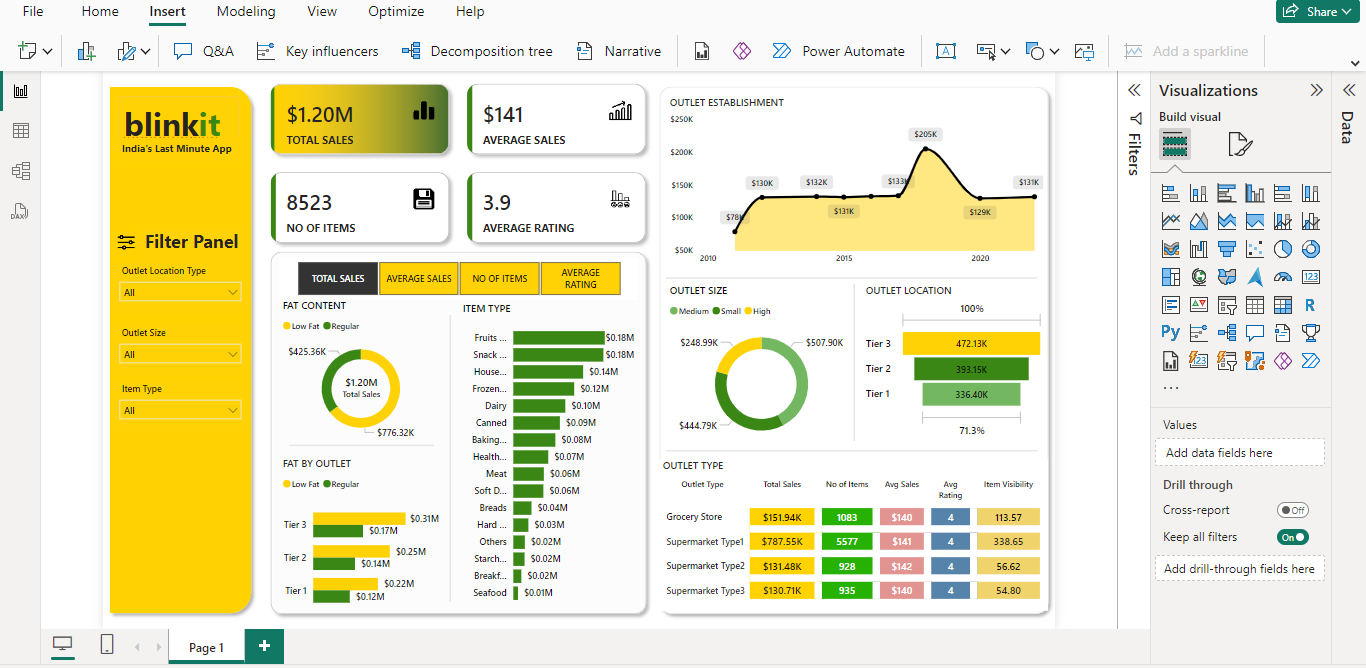

Layout of this report page (visuals, bound fields, positions):
{"tool":"powerbi","page":{"name":"Page 1","canvas":[1280,750],"ordinal":0},"visuals":[{"type":"shape","box":[6.7,11.8,201.6,725.7],"z":0},{"type":"textbox","box":[20.2,23.5,174.7,84],"z":1000},{"type":"textbox","box":[20.2,90.7,174.7,33.6],"z":2000},{"type":"cardVisual","fields":{"Data":["BlinkIT Grocery Data.TOTAL SALES","BlinkIT Grocery Data.AVERAGE SALES","BlinkIT Grocery Data.NO OF ITEMS","BlinkIT Grocery Data.AVERAGE RATING"]},"box":[208.2,0,538.9,249.5],"z":3000},{"type":"shape","box":[217,233.3,522.6,504.9],"z":4000},{"type":"donutChart","title":"FAT CONTENT","fields":{"Y":["BlinkIT Grocery Data.TOTAL SALES"],"Category":["BlinkIT Grocery Data.Item Fat Content"]},"box":[236.2,307.1,220,196.4],"z":5000},{"type":"slicer","fields":{"Values":["Metrics.Metrics"]},"box":[236.2,249.5,482.8,57.6],"z":6000},{"type":"cardVisual","fields":{"Data":["BlinkIT Grocery Data.TOTAL SALES"]},"box":[295.9,374.4,103.2,99.1],"z":7000},{"type":"clusteredBarChart","title":"FAT BY OUTLET","fields":{"Y":["BlinkIT Grocery Data.TOTAL SALES"],"Category":["BlinkIT Grocery Data.Outlet Location Type"],"Series":["BlinkIT Grocery Data.Item Fat Content"]},"box":[236.2,518.2,220,220],"z":8000},{"type":"shape","box":[249.5,497.5,194.9,11.8],"z":9000},{"type":"shape","box":[456.2,327.8,22.1,385.3],"z":10000},{"type":"barChart","title":"ITEM TYPE","fields":{"Y":["BlinkIT Grocery Data.TOTAL SALES"],"Category":["BlinkIT Grocery Data.Item Type"]},"box":[478.3,310,240.6,414.9],"z":11000},{"type":"shape","box":[739.7,11.8,540.4,726.4],"z":12000},{"type":"lineChart","title":"OUTLET ESTABLISHMENT","fields":{"Y":["BlinkIT Grocery Data.TOTAL SALES"],"Category":["BlinkIT Grocery Data.Outlet Establishment Year"]},"box":[757.4,34,512.3,236.2],"z":13000},{"type":"shape","box":[757.4,270.2,499,16.2],"z":14000},{"type":"donutChart","title":"OUTLET SIZE","fields":{"Y":["BlinkIT Grocery Data.TOTAL SALES"],"Category":["BlinkIT Grocery Data.Outlet Size"]},"box":[757.4,286.4,256.9,224.4],"z":15000},{"type":"shape","box":[998,286.4,22.1,211.1],"z":16000},{"type":"funnel","title":"OUTLET LOCATION","fields":{"Y":["Sum(BlinkIT Grocery Data.Sales)"],"Category":["BlinkIT Grocery Data.Outlet Location Type"]},"box":[1020.2,286.4,249.5,211.1],"z":17000},{"type":"shape","box":[757.4,500.5,499,20.7],"z":18000},{"type":"pivotTable","title":"OUTLET TYPE","fields":{"Rows":["BlinkIT Grocery Data.Outlet Type"],"Values":["BlinkIT Grocery Data.TOTAL SALES","BlinkIT Grocery Data.NO OF ITEMS","BlinkIT Grocery Data.AVERAGE SALES","BlinkIT Grocery Data.AVERAGE RATING","Sum(BlinkIT Grocery Data.Item Visibility)"]},"box":[747,521.2,522.6,203.7],"z":19000},{"type":"slicer","fields":{"Values":["BlinkIT Grocery Data.Outlet Location Type"]},"box":[6.9,256,200.9,71.6],"z":20000},{"type":"slicer","fields":{"Values":["BlinkIT Grocery Data.Outlet Size"]},"box":[6.9,338.6,200.9,71.6],"z":20001},{"type":"slicer","fields":{"Values":["BlinkIT Grocery Data.Item Type"]},"box":[6.9,414.3,200.9,71.6],"z":20002},{"type":"textbox","box":[50.9,206.5,144.5,50.9],"z":20003},{"type":"image","box":[11.8,203.7,38.4,51.7],"z":20004}]}

Visuals, with their boxes on the page's 1280x750 design canvas (x1, y1, x2, y2). These are canvas units, not pixel positions in the 1366x668 screenshot, which may show the page scaled, cropped or inside an application window:
shape: bbox=(7, 12, 208, 738)
textbox: bbox=(20, 24, 195, 108)
textbox: bbox=(20, 91, 195, 124)
cardVisual - BlinkIT Grocery Data.TOTAL SALES x BlinkIT Grocery Data.AVERAGE SALES: bbox=(208, 0, 747, 250)
shape: bbox=(217, 233, 740, 738)
"FAT CONTENT" donutChart: bbox=(236, 307, 456, 504)
slicer - Metrics.Metrics: bbox=(236, 250, 719, 307)
cardVisual - BlinkIT Grocery Data.TOTAL SALES: bbox=(296, 374, 399, 474)
"FAT BY OUTLET" clusteredBarChart: bbox=(236, 518, 456, 738)
shape: bbox=(250, 498, 444, 509)
shape: bbox=(456, 328, 478, 713)
"ITEM TYPE" barChart: bbox=(478, 310, 719, 725)
shape: bbox=(740, 12, 1280, 738)
"OUTLET ESTABLISHMENT" lineChart: bbox=(757, 34, 1270, 270)
shape: bbox=(757, 270, 1256, 286)
"OUTLET SIZE" donutChart: bbox=(757, 286, 1014, 511)
shape: bbox=(998, 286, 1020, 498)
"OUTLET LOCATION" funnel: bbox=(1020, 286, 1270, 498)
shape: bbox=(757, 500, 1256, 521)
"OUTLET TYPE" pivotTable: bbox=(747, 521, 1270, 725)
slicer - BlinkIT Grocery Data.Outlet Location Type: bbox=(7, 256, 208, 328)
slicer - BlinkIT Grocery Data.Outlet Size: bbox=(7, 339, 208, 410)
slicer - BlinkIT Grocery Data.Item Type: bbox=(7, 414, 208, 486)
textbox: bbox=(51, 206, 195, 257)
image: bbox=(12, 204, 50, 255)
